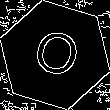O_S: (27, 24, 83, 86)
